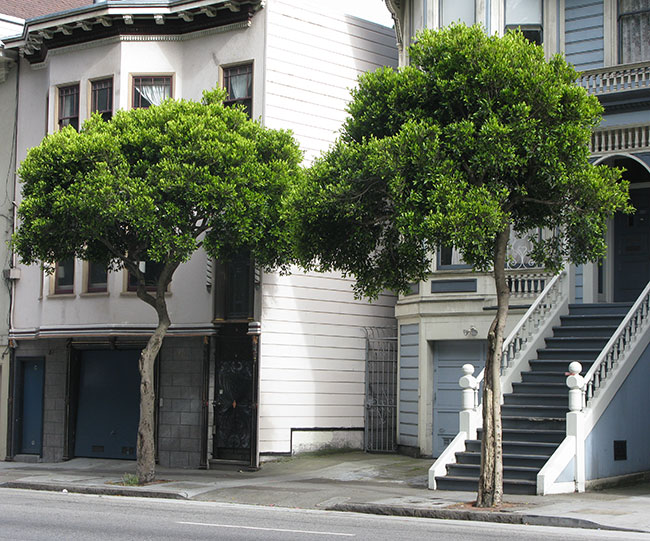tree: (282, 17, 636, 508), (5, 83, 305, 485)
